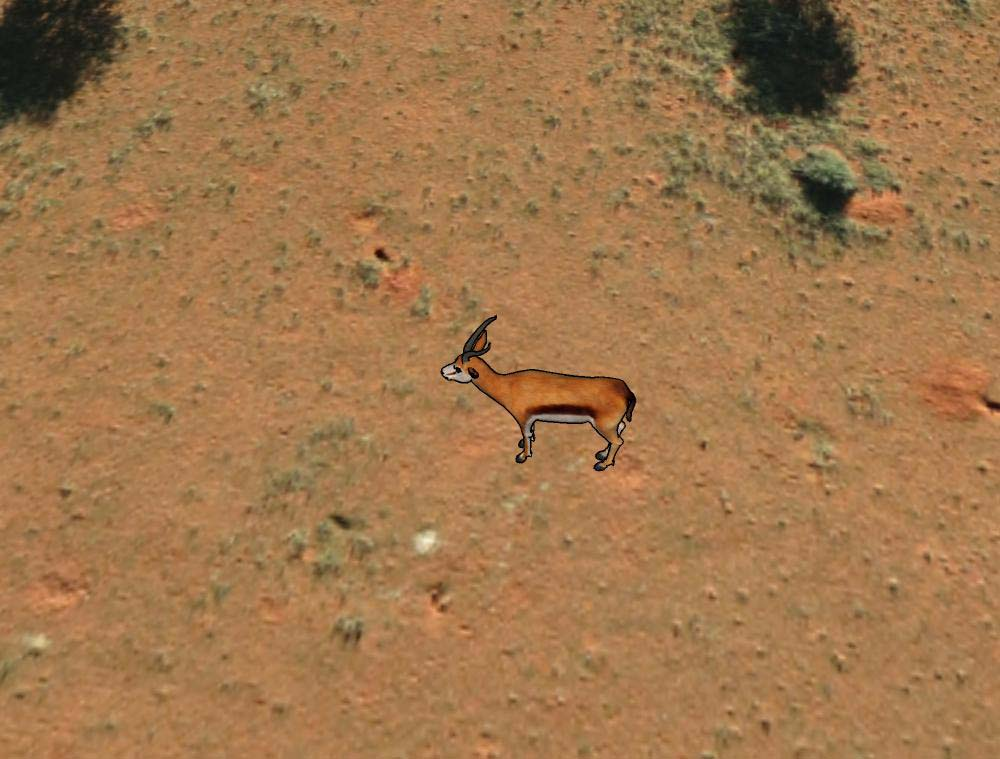springbok: (435, 312, 638, 474)
